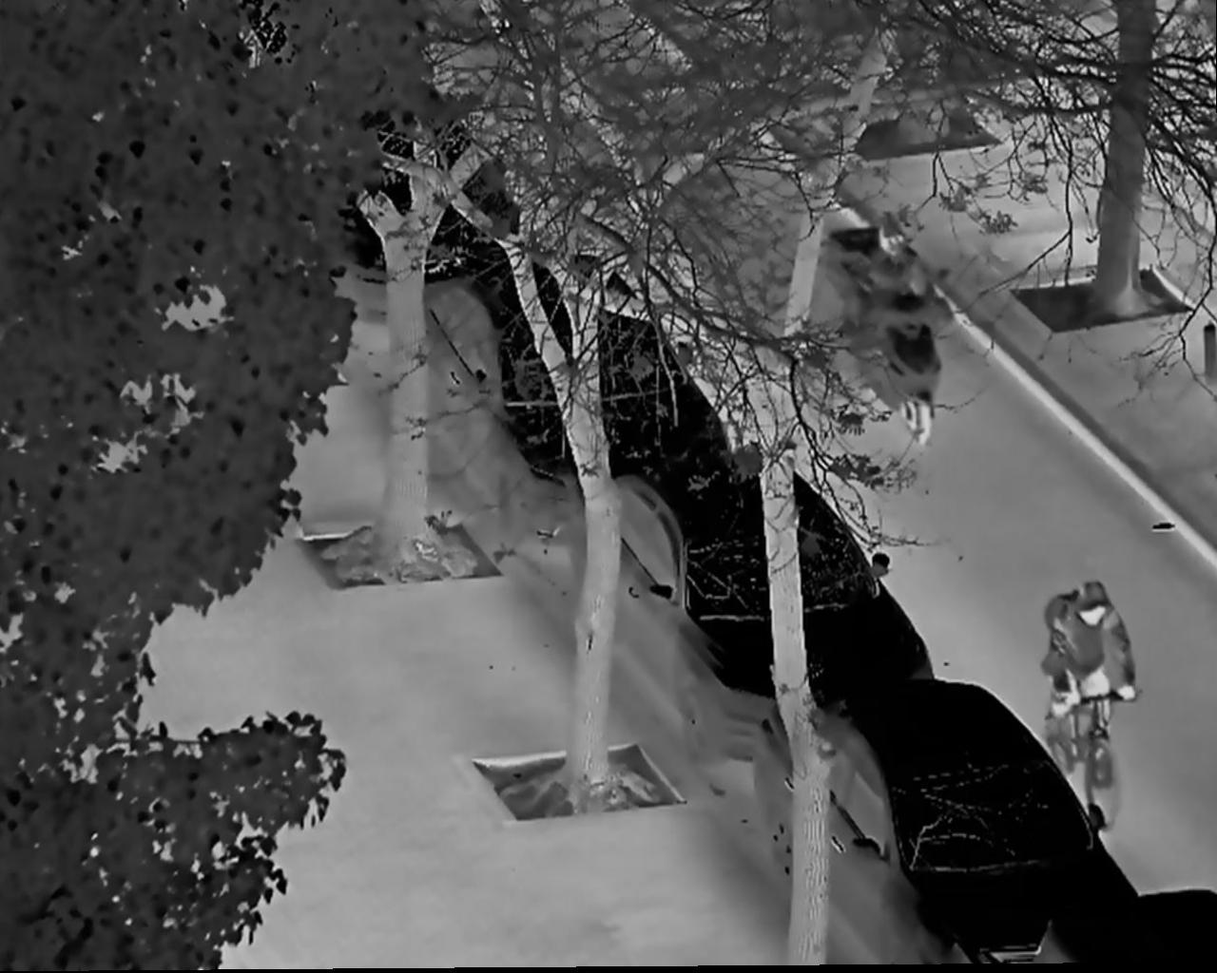person: (856, 219, 947, 408), (1041, 580, 1135, 752)
